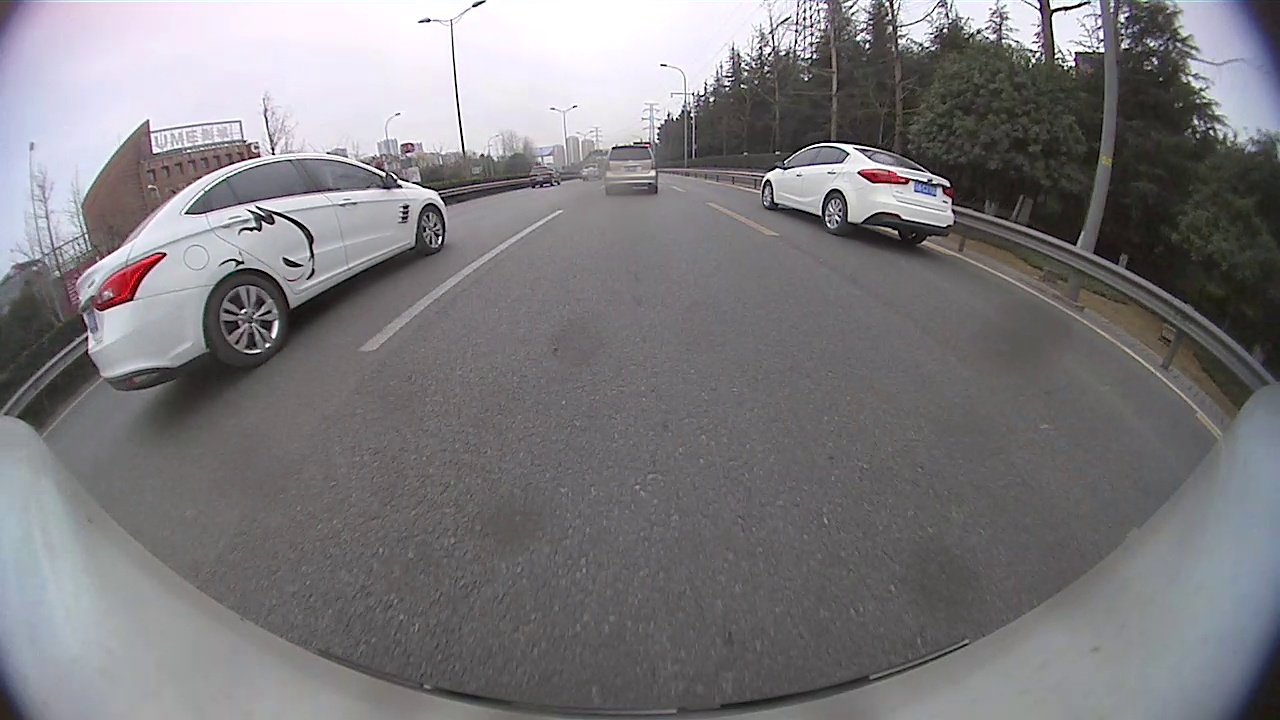car: (74, 152, 449, 391), (759, 137, 956, 246), (602, 145, 657, 196), (528, 165, 562, 187), (582, 164, 602, 180)
front: (416, 207, 447, 254), (759, 184, 776, 211)
rear: (205, 272, 289, 369), (820, 193, 848, 236)
